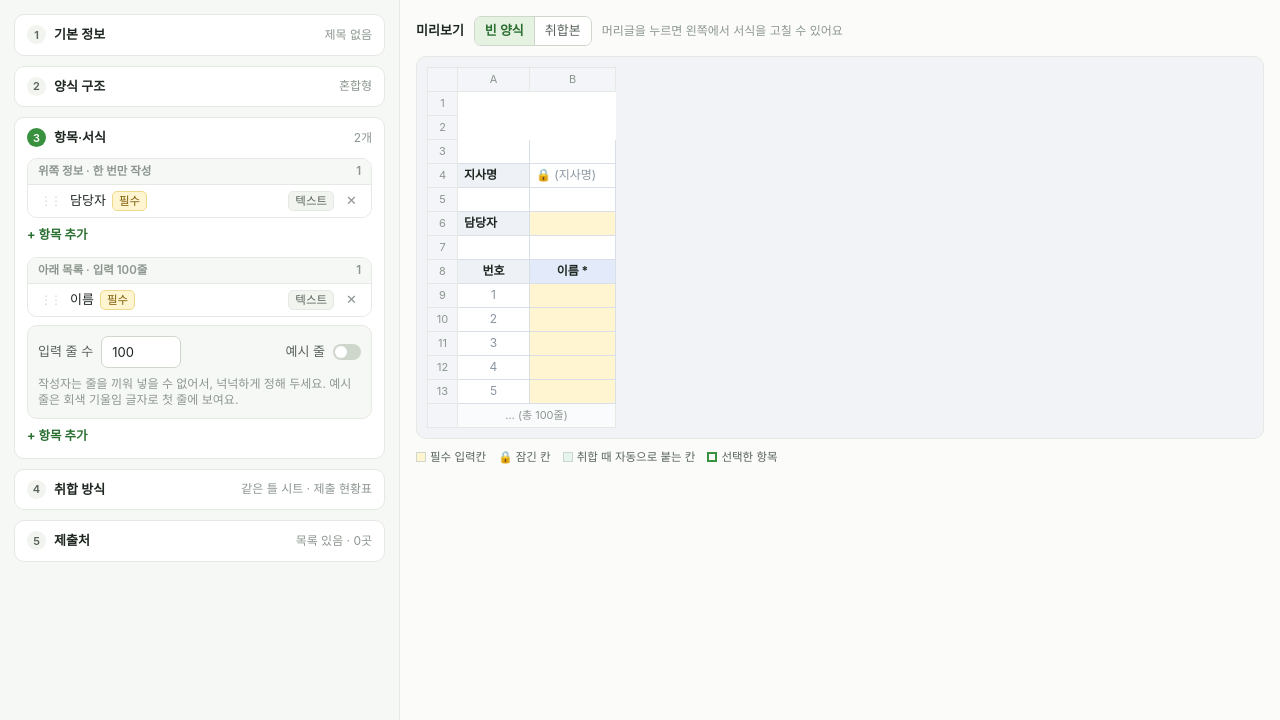
Test: ⑤ 제출처 트리 › 검색된 곳 모두 선택·해제, 인원수는 보이지 않음
This screenshot has width=1280, height=720.
Click the button "5 제출처 목록 있음 · 0곳": (72, 540) [15,521,384,560]
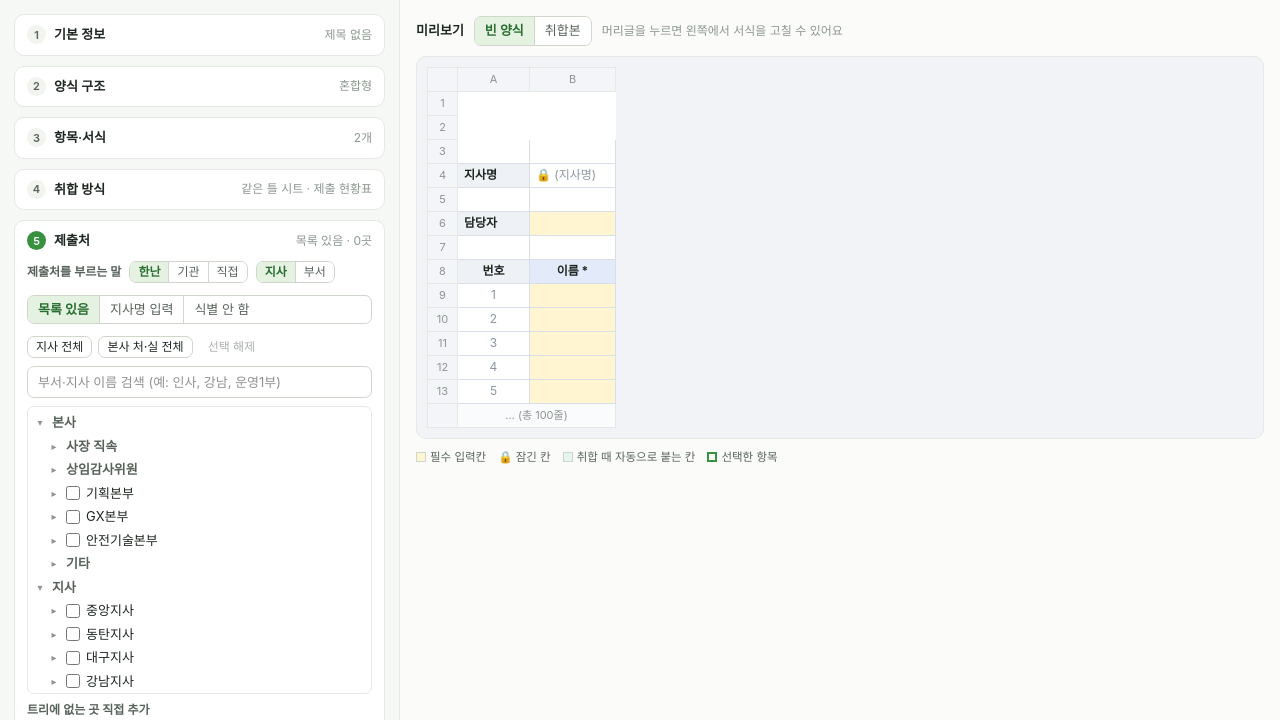
In the search field named "조직 검색": (200, 382) [27,366,372,398], type "운영1부"
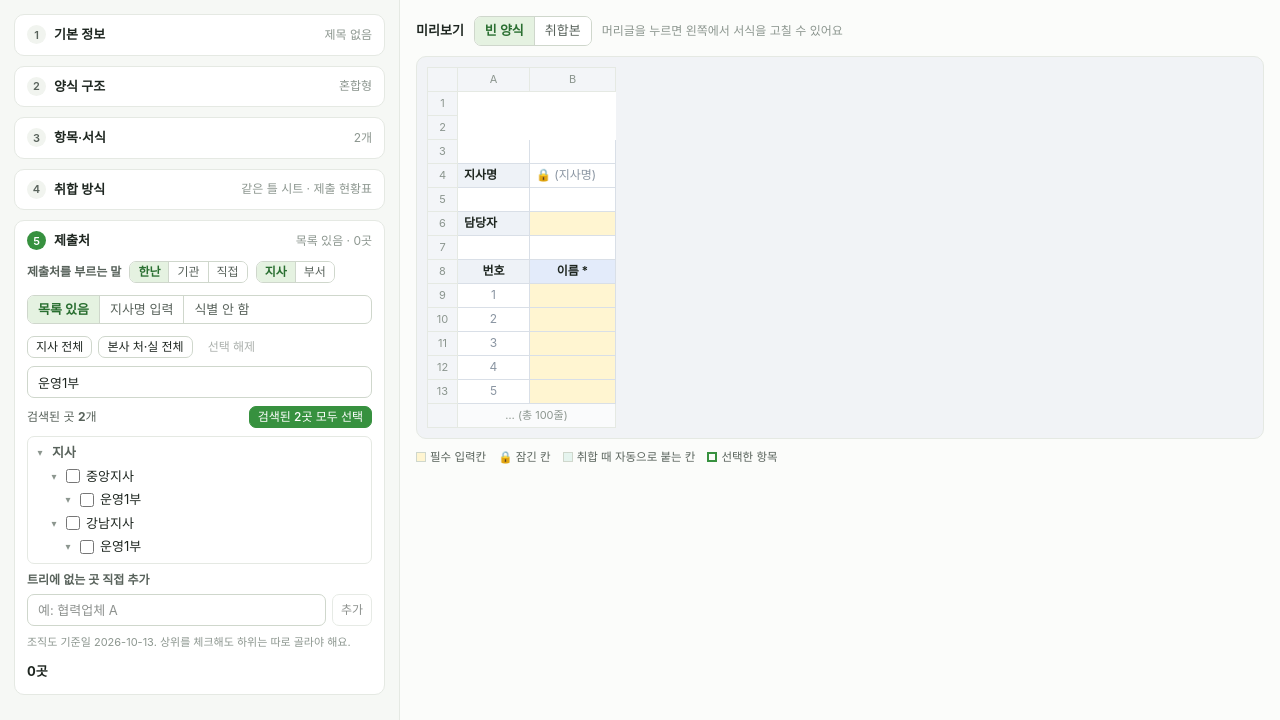
Click the button "검색된 2곳 모두 선택": (310, 417) [249,406,372,428]
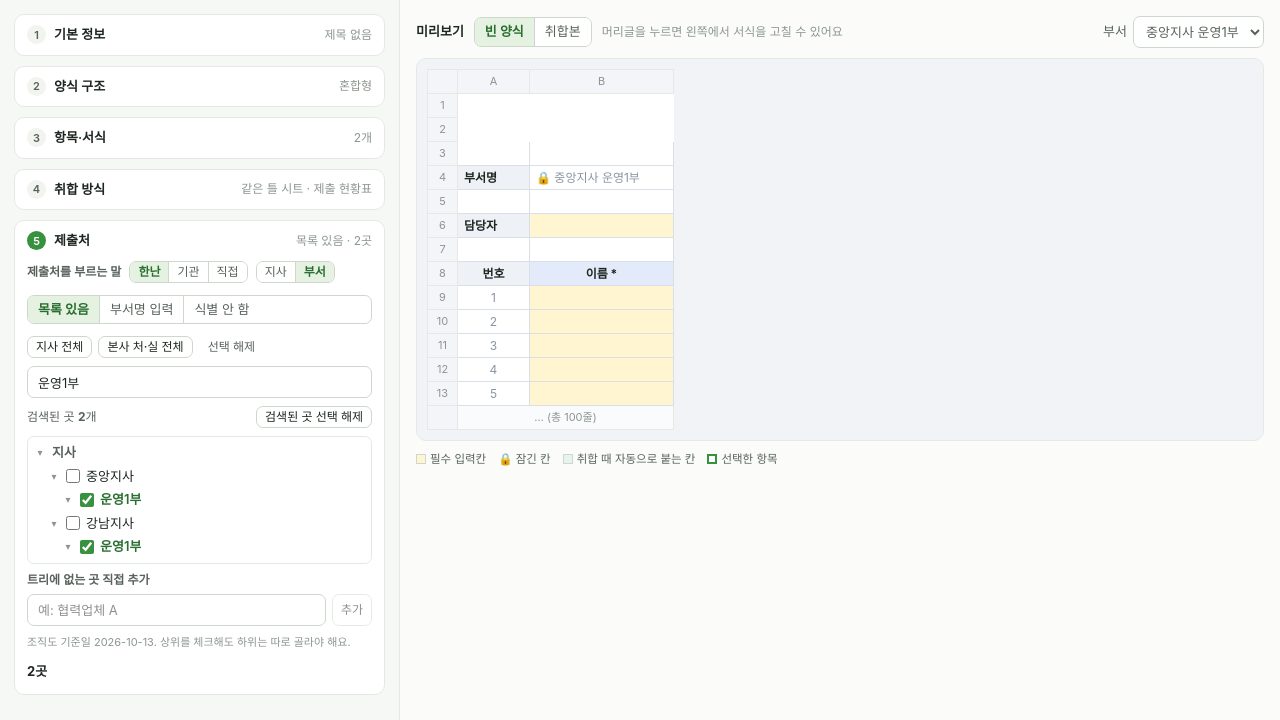
Click the button "검색된 곳 선택 해제": (314, 417) [256,406,372,428]
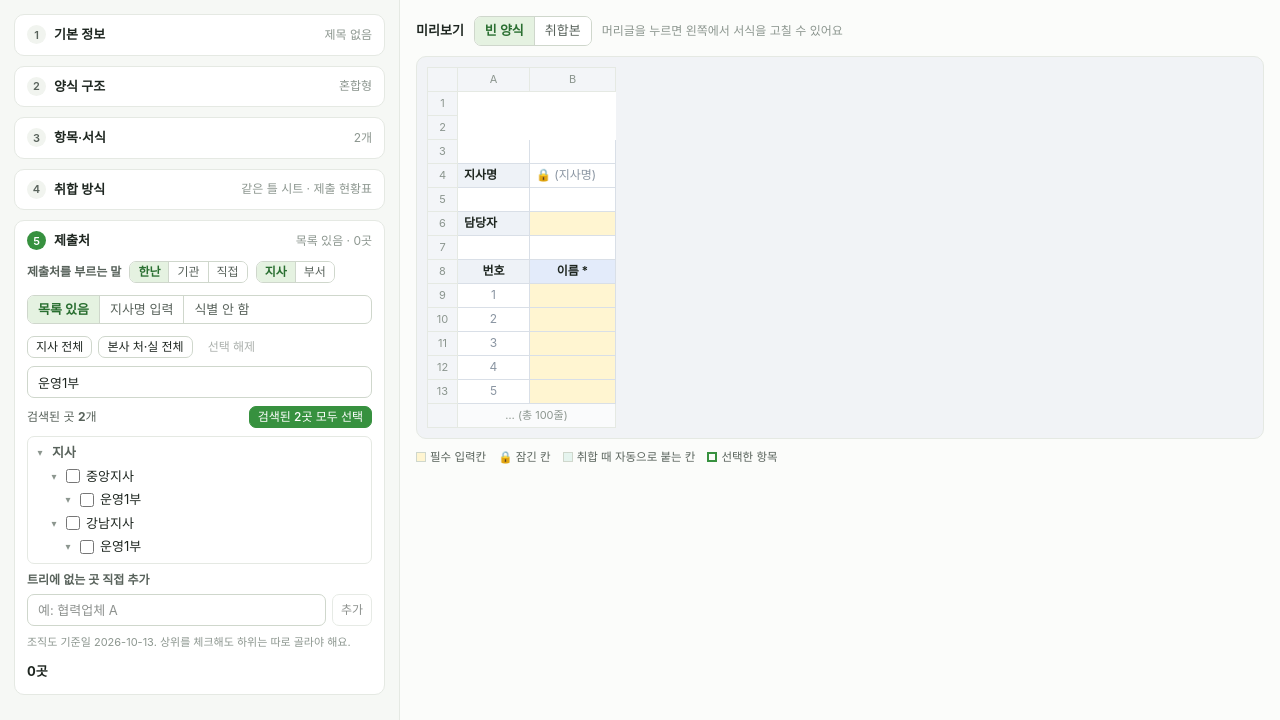
Expected: the text "0곳" is shown, [27,663,48,679]
